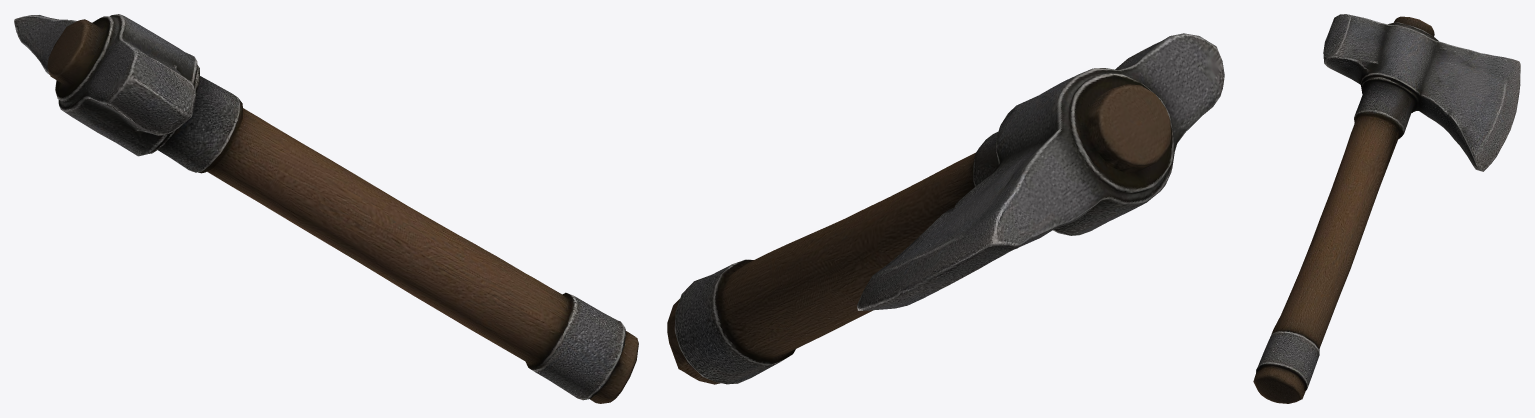
Rendered from iron_axe.fbx.
3 renders of one model, left to right at view 1: azimuth 30°, elevation 25°; view 2: azimuth 150°, elevation 25°; view 3: azimuth 270°, elevation 25°, orthographic. The views are drawn at different scales.
Visible parts, largest first — view 1: tripo_node_50d1095f; view 2: tripo_node_50d1095f; view 3: tripo_node_50d1095f.
Boxes of the visible parts, x1=… form: tripo_node_50d1095f: x1=14, y1=14, x2=638, y2=403; tripo_node_50d1095f: x1=667, y1=33, x2=1224, y2=384; tripo_node_50d1095f: x1=1253, y1=14, x2=1520, y2=403.
Size of the model in its own units: 0.9805 by 0.7961 by 0.7385.
